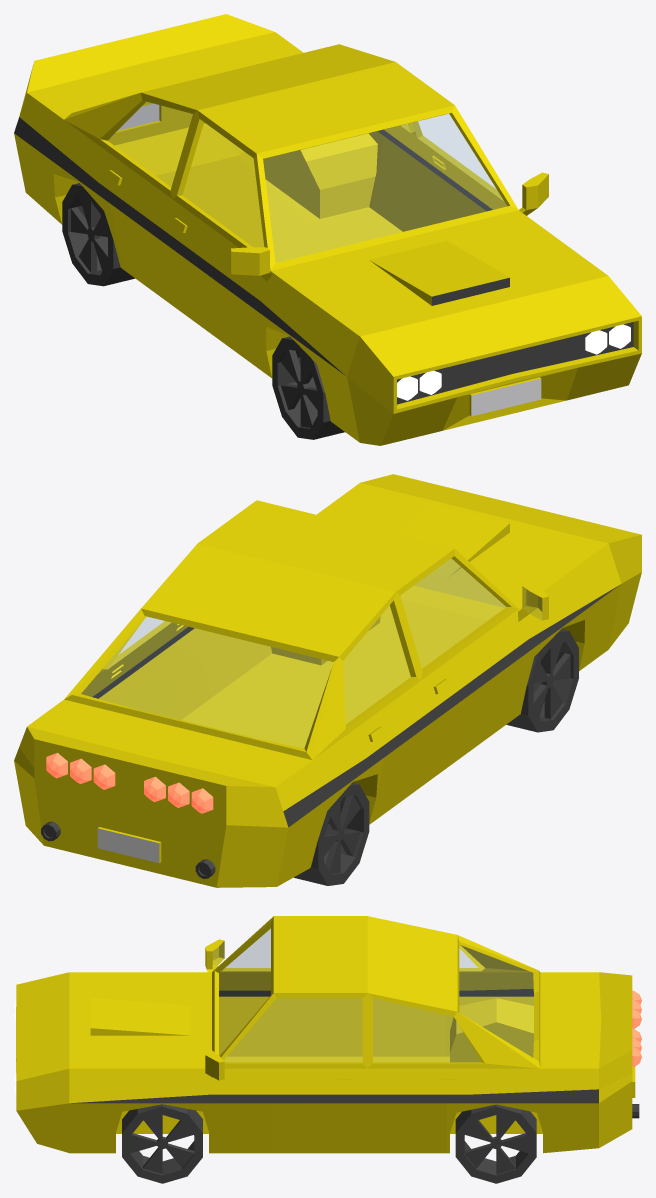
File: muscle.glb
3 views of the same model, one above another, from view 1: azimuth 30°, elevation 25°; view 2: azimuth 150°, elevation 25°; view 3: azimuth 270°, elevation 25° (orthographic). The views are drawn at different scales.
Visible parts, largest first — view 1: Muscle, Muscle wheel front right, Muscle wheel rear right; view 2: Muscle, Muscle wheel front right, Muscle wheel rear right; view 3: Muscle, Muscle wheel front left, Muscle wheel rear left.
Part boxes in pixels (<box>): Muscle: <box>14,14,641,445</box>; Muscle wheel front right: <box>272,336,344,439</box>; Muscle wheel rear right: <box>62,183,134,286</box>; Muscle: <box>14,474,641,887</box>; Muscle wheel front right: <box>506,629,578,732</box>; Muscle wheel rear right: <box>294,783,369,885</box>; Muscle: <box>14,916,641,1153</box>; Muscle wheel front left: <box>122,1104,202,1183</box>; Muscle wheel rear left: <box>455,1104,536,1183</box>.
Bounding box in the file's own units: 2.81 × 1.91 × 6.06.
